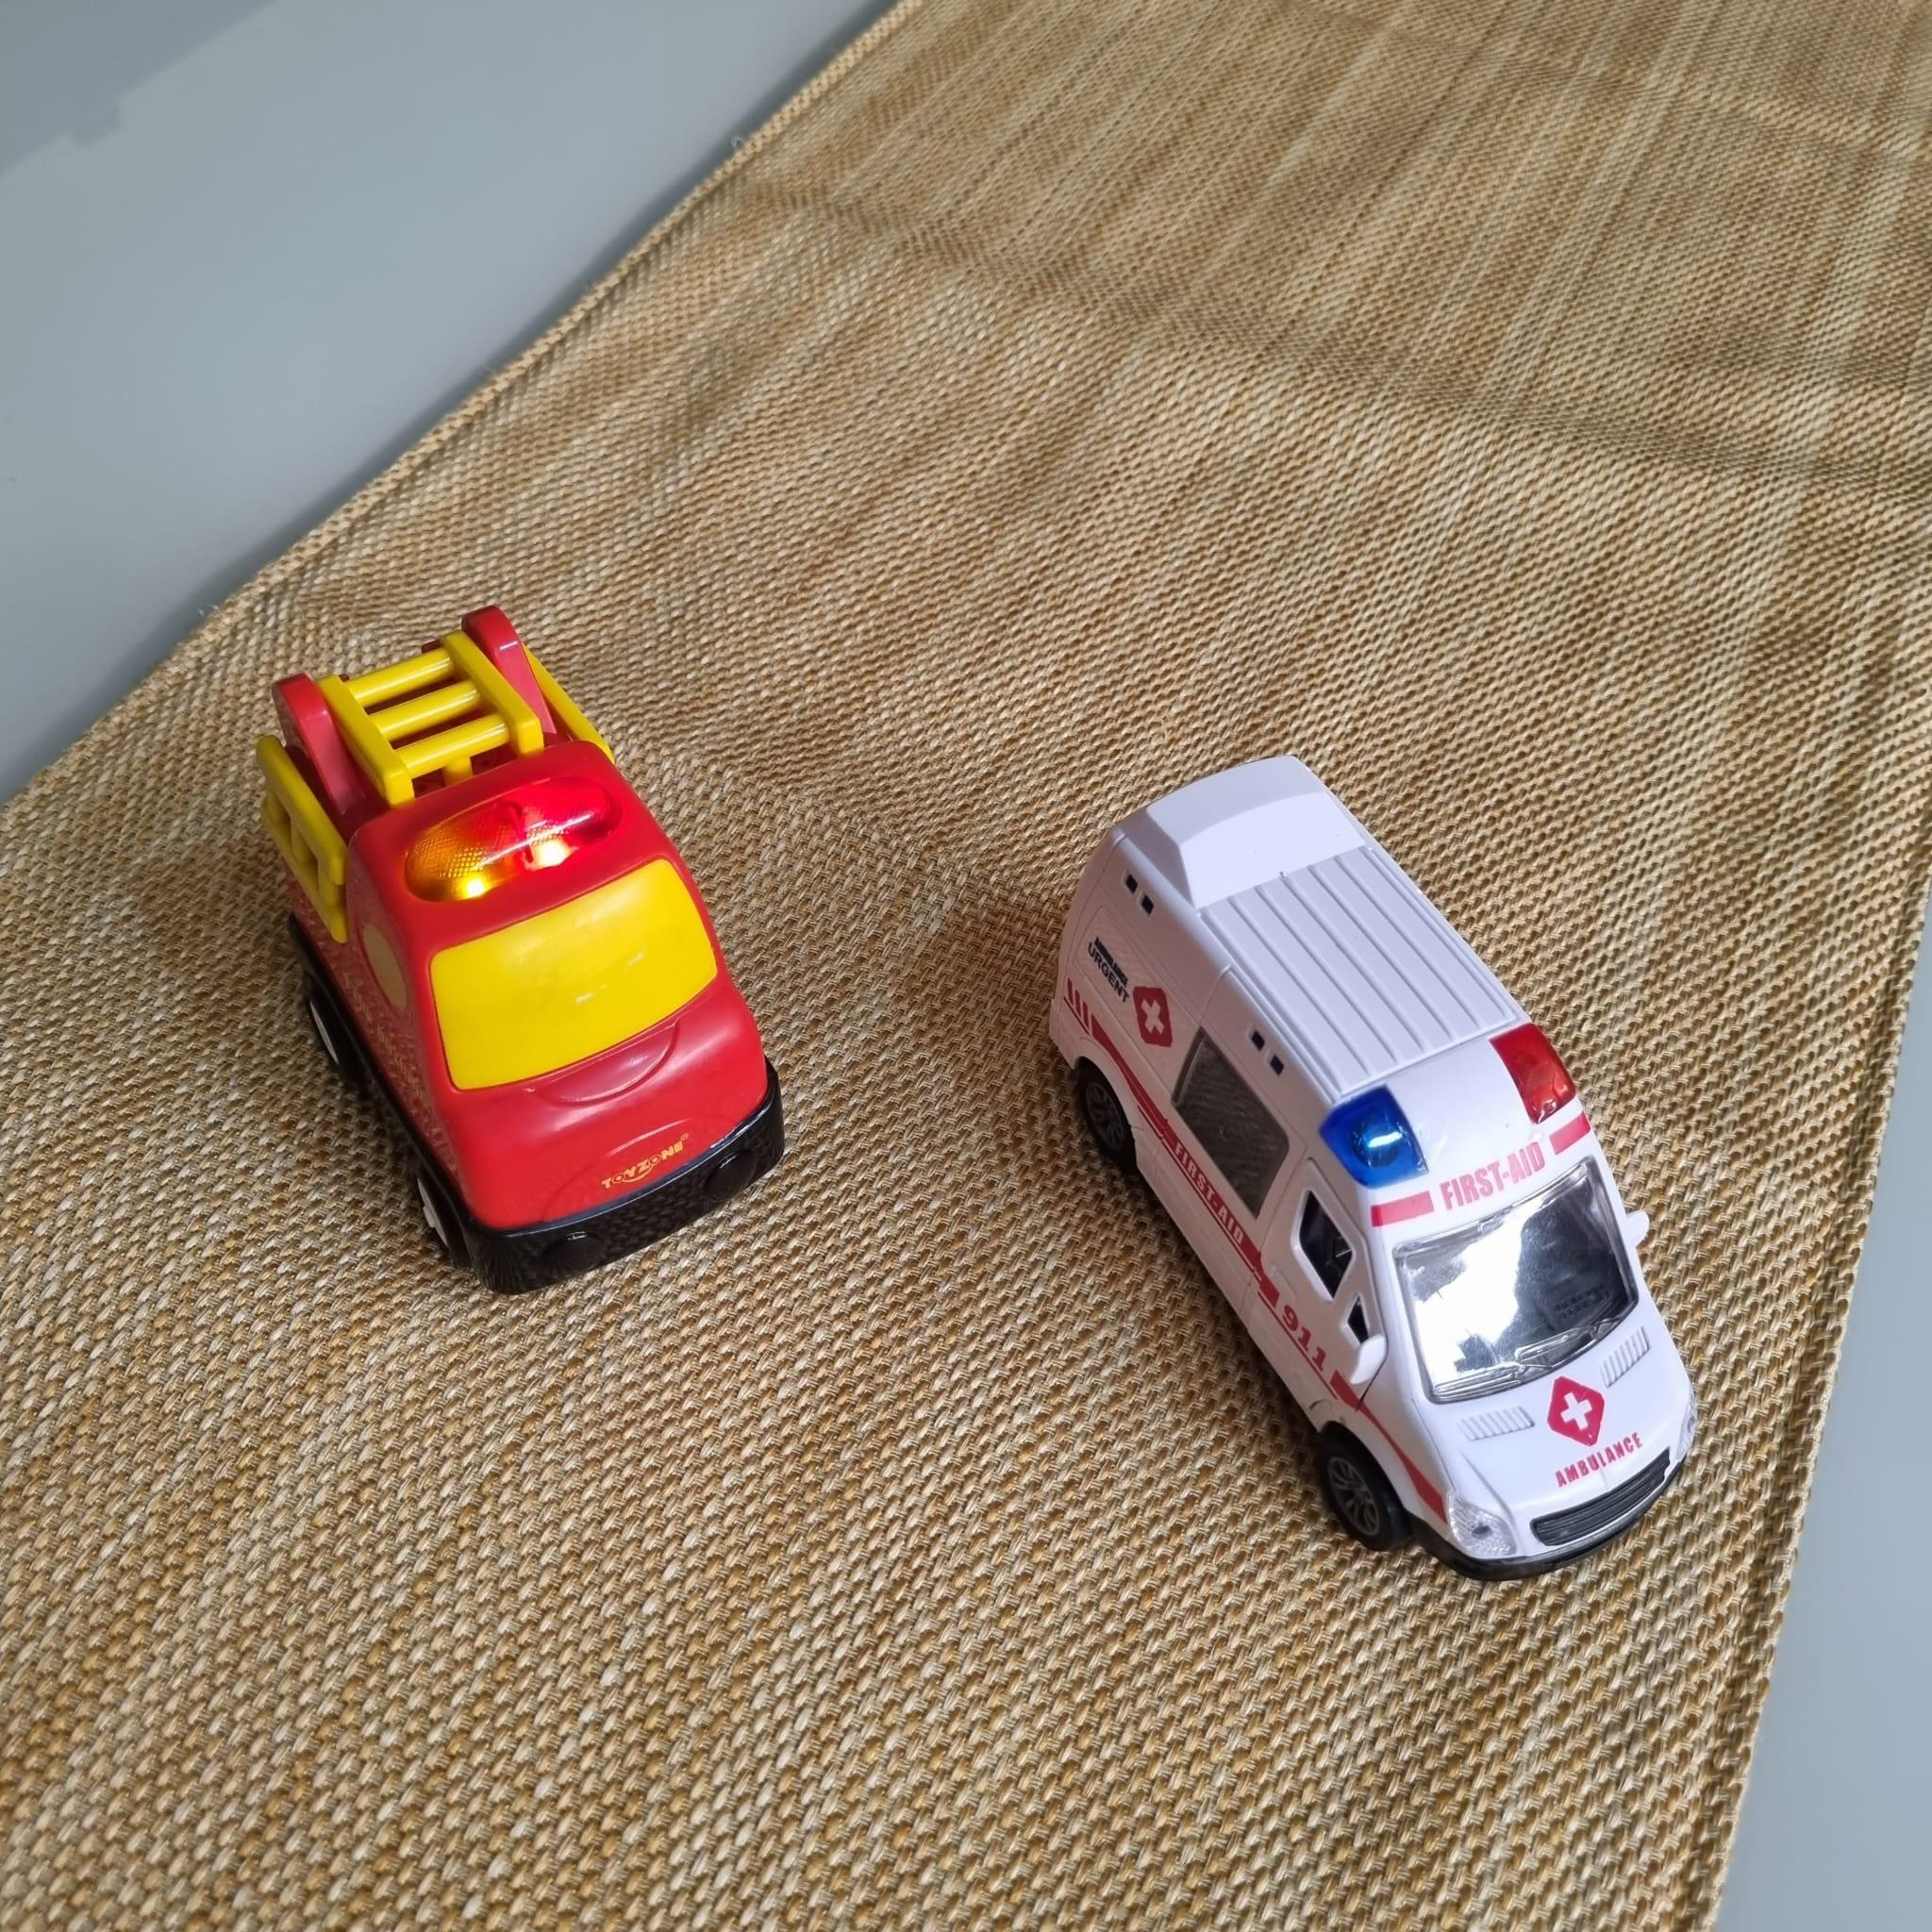ambulance_off: (1039, 750, 1713, 1575)
firetruck_on: (255, 594, 800, 1297)
